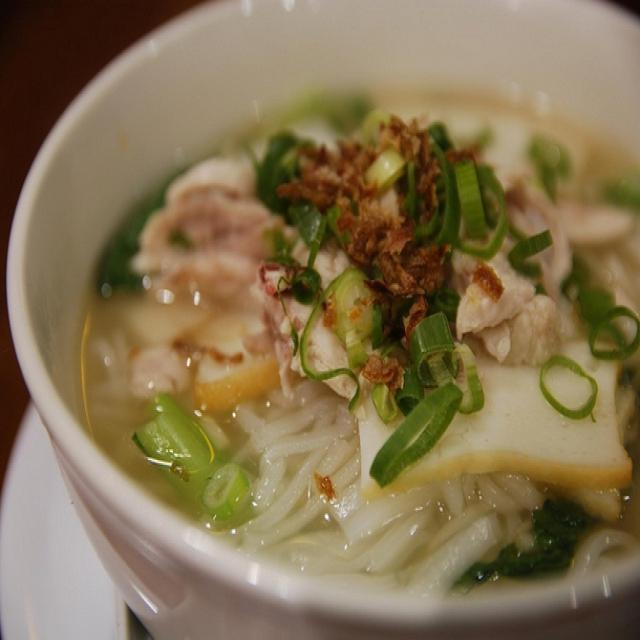面条主食: (21, 16, 616, 610)
